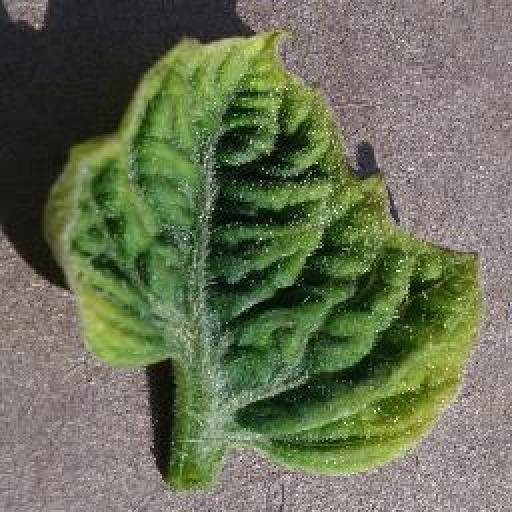disease_tomato: (47, 30, 480, 478)
